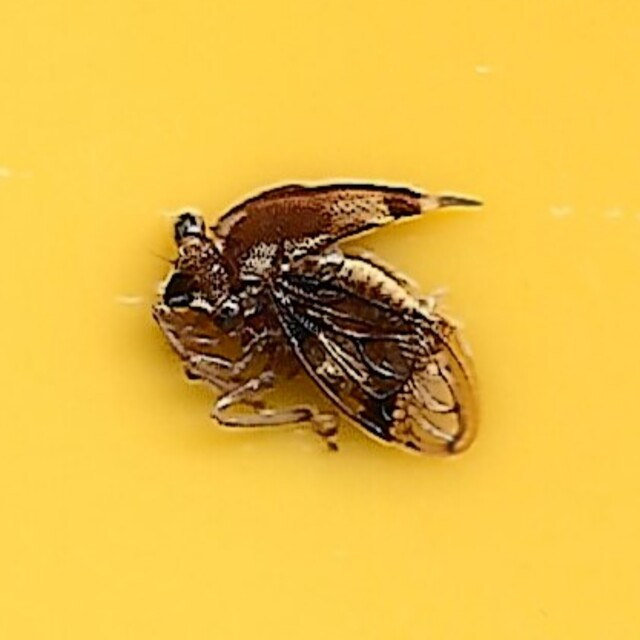Hemiptera: (153, 177, 487, 463)
